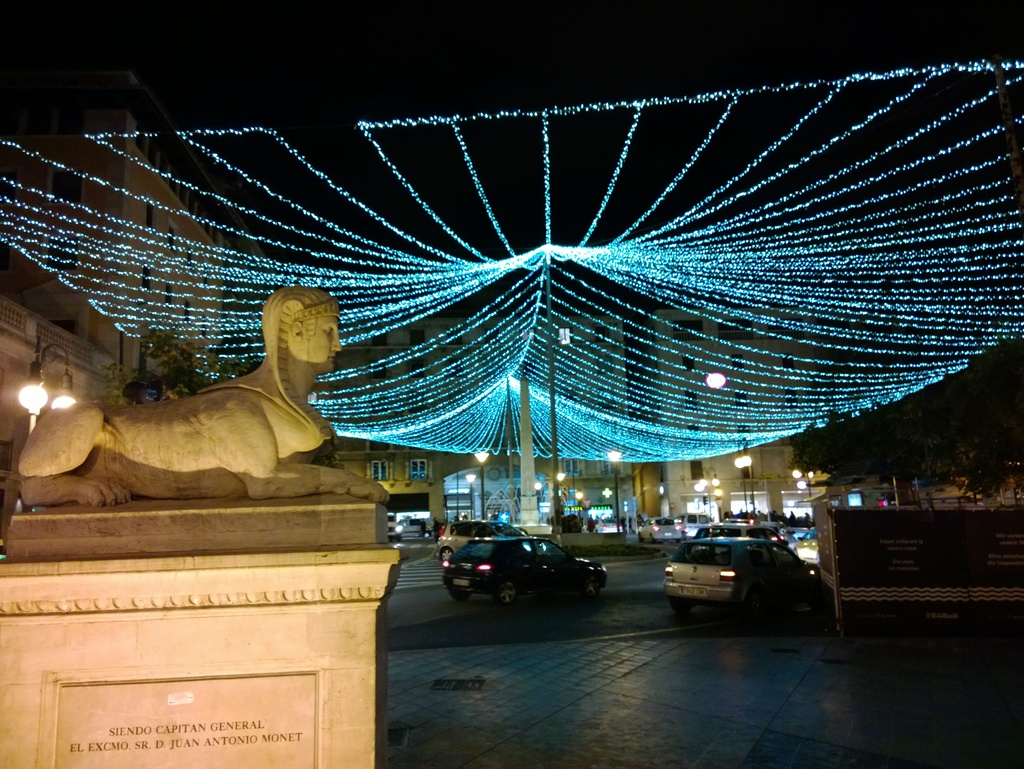Car: (665, 535, 819, 616), (437, 535, 609, 603), (438, 515, 516, 564)
